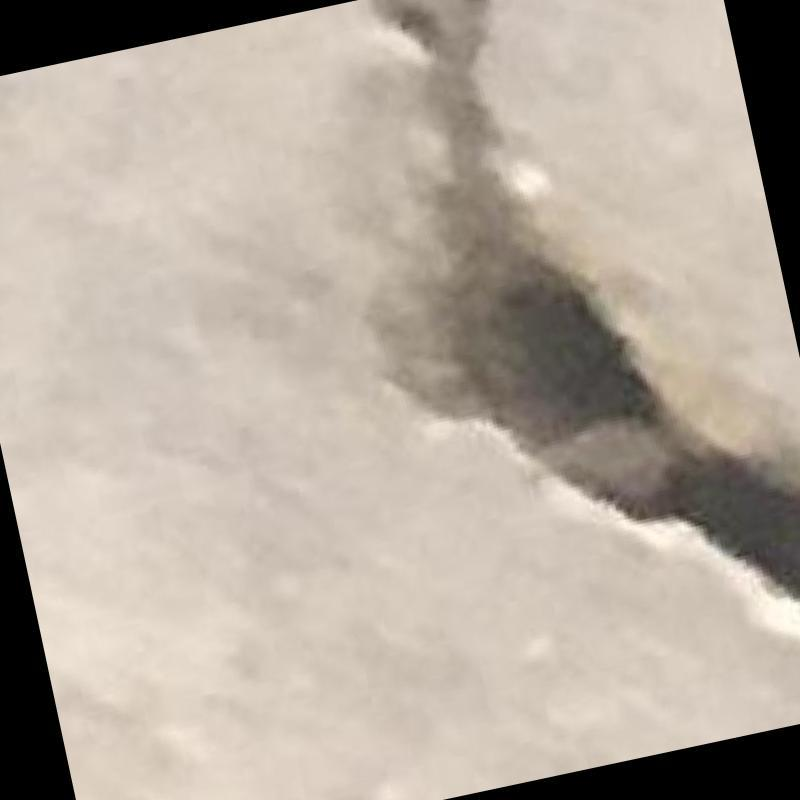crack: (371, 0, 800, 596)
